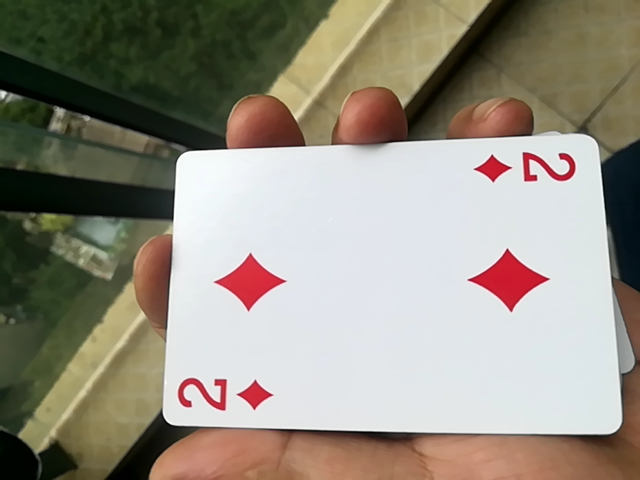fk 2: (148, 132, 612, 449)
